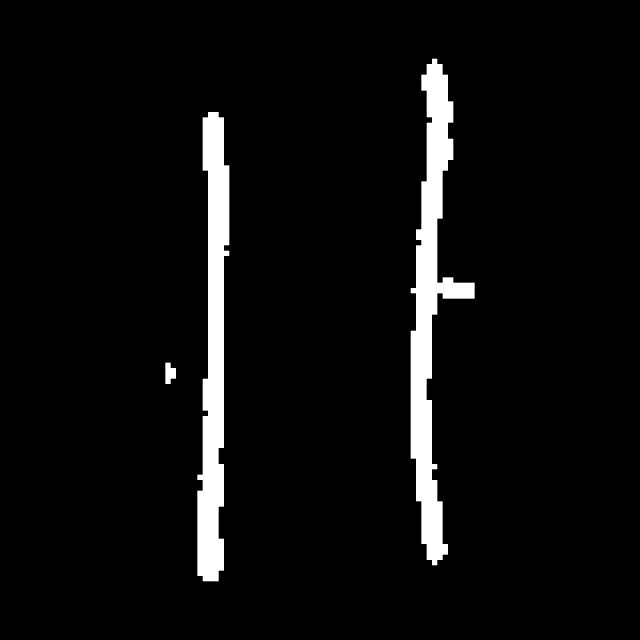capacitor: (195, 50, 464, 603)
